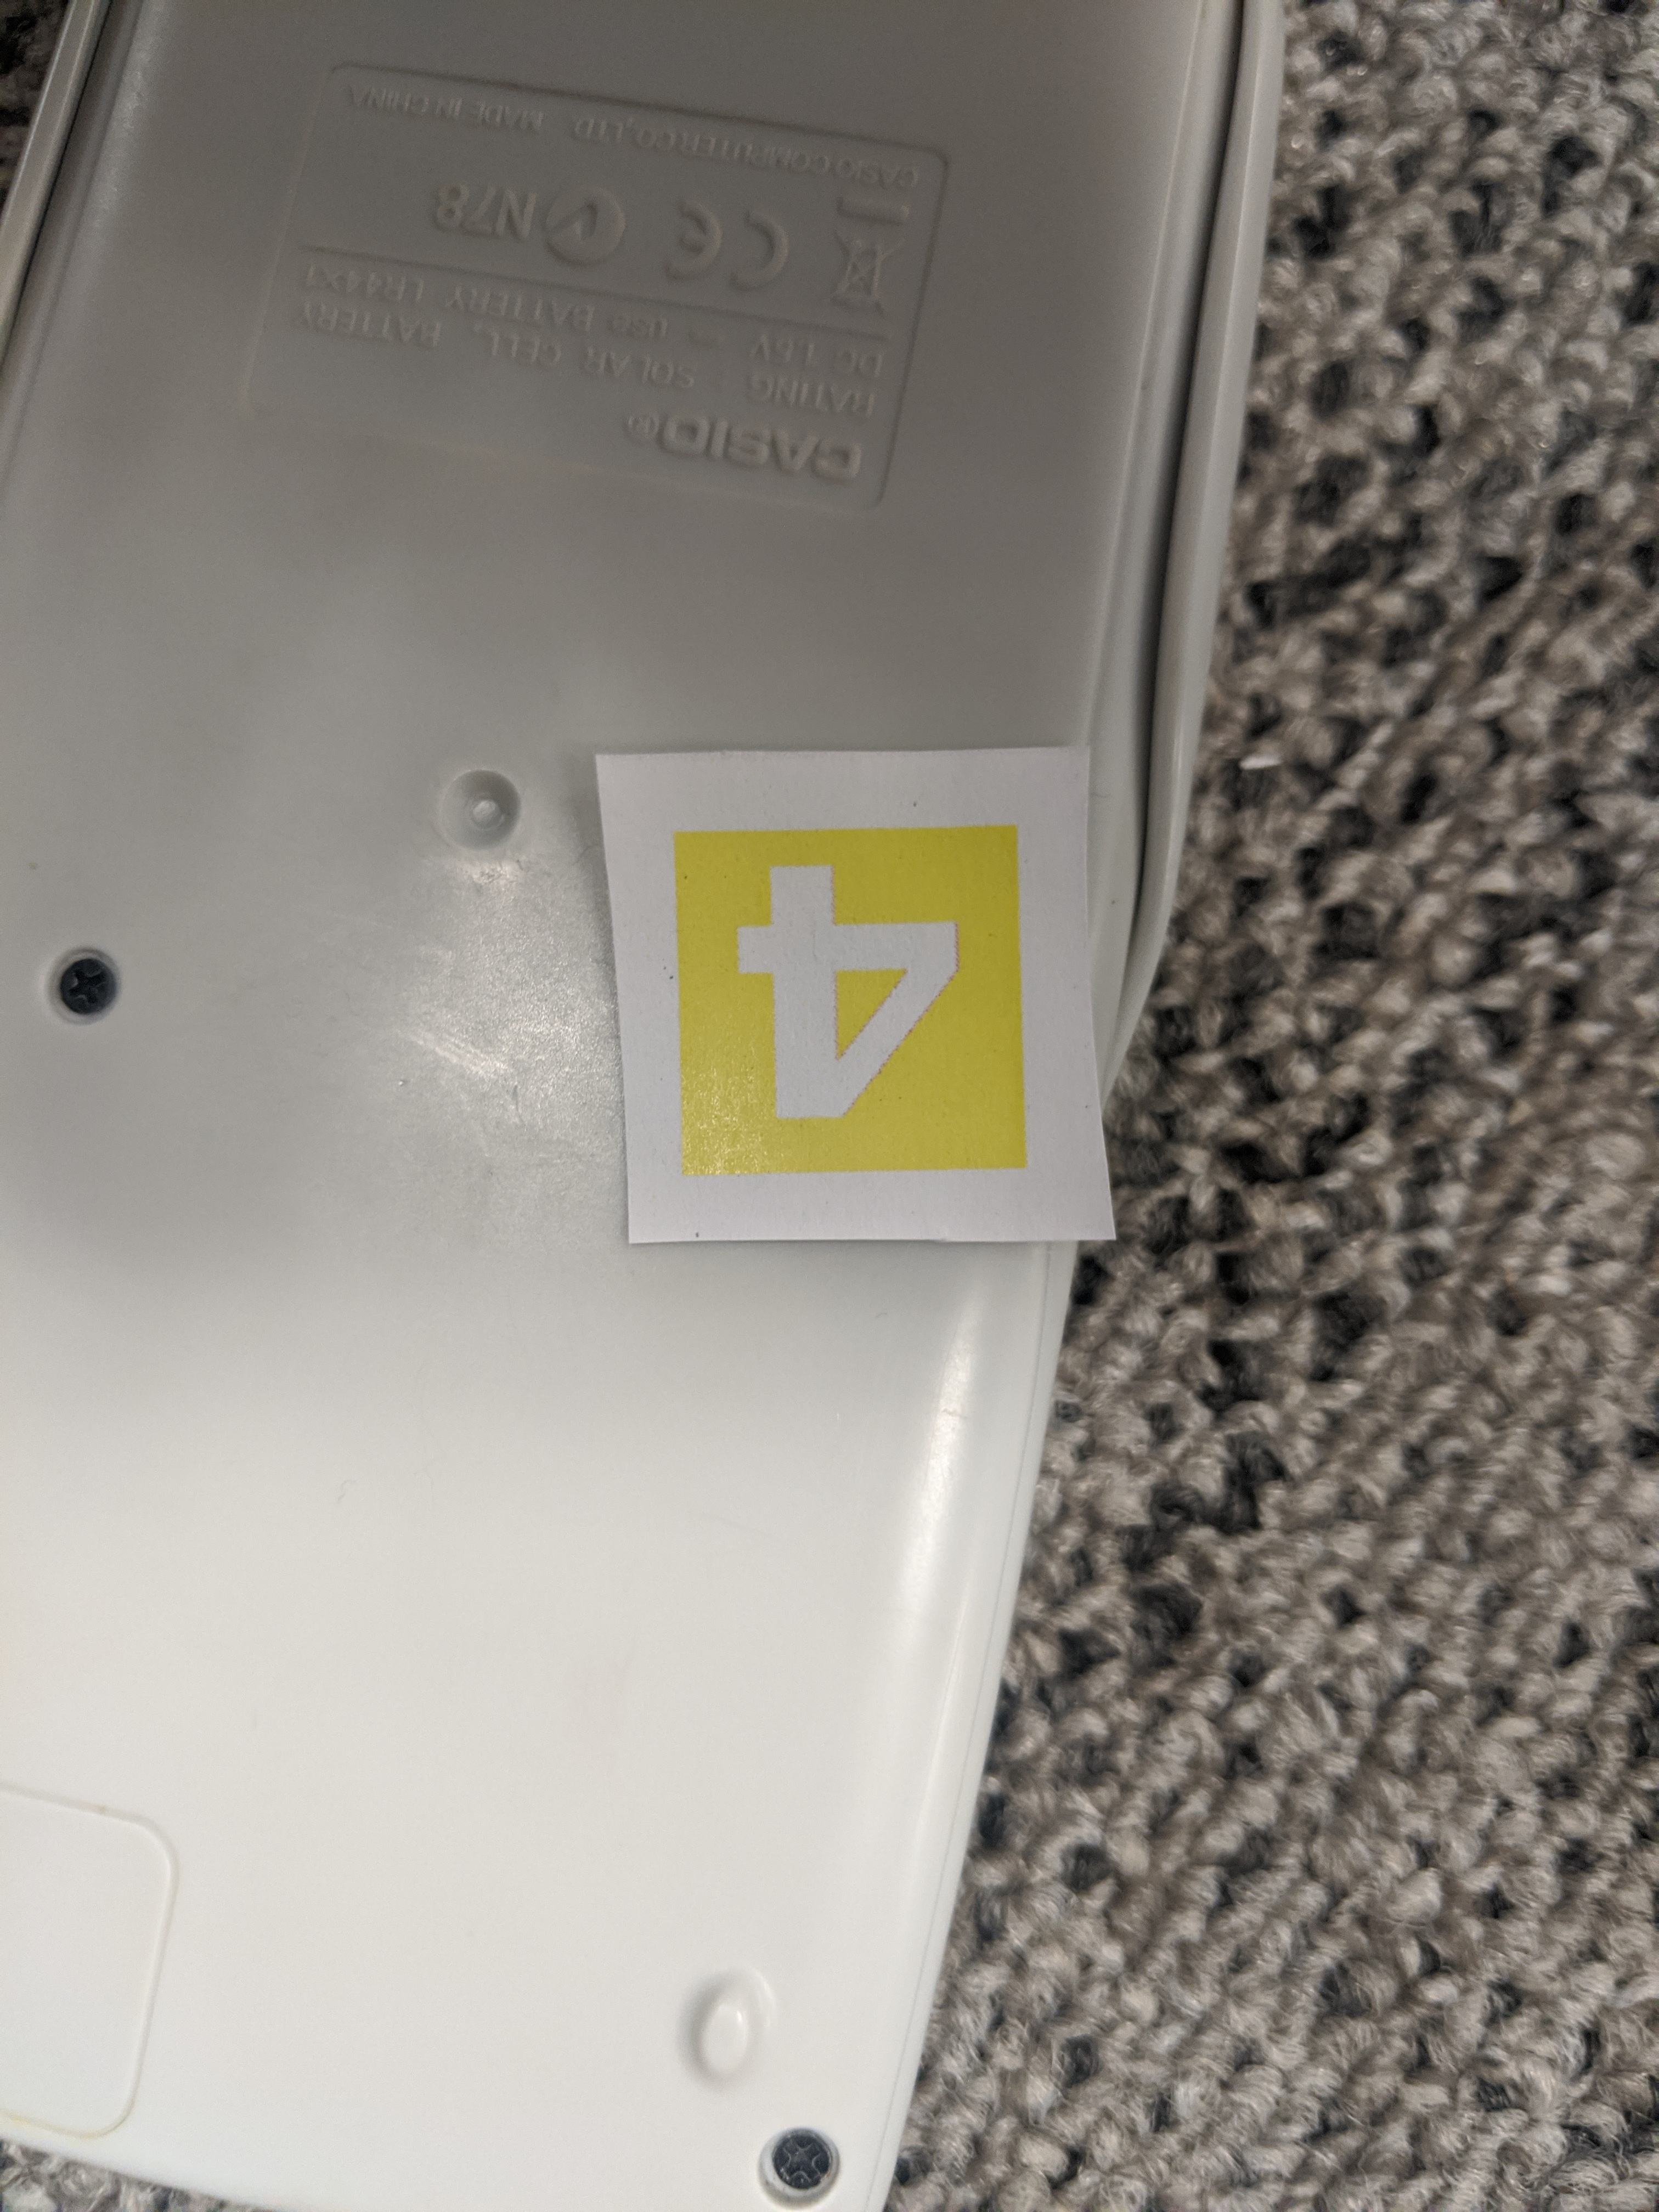yellow marker: (598, 725, 1136, 1268)
